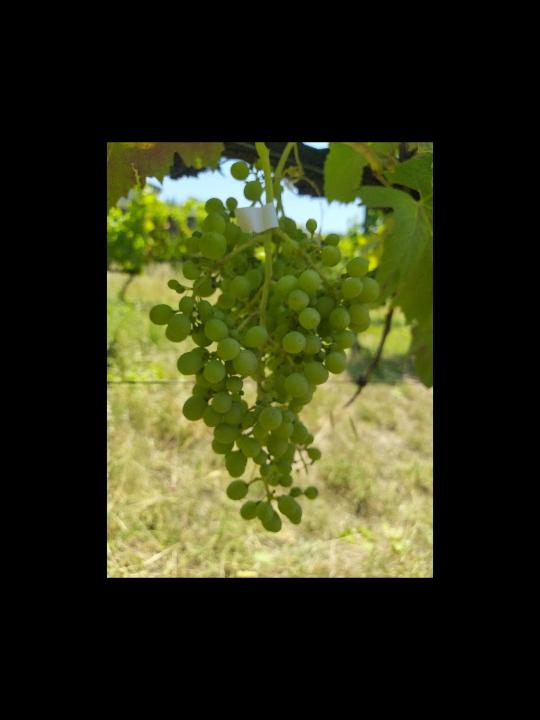grape: (147, 195, 380, 533)
